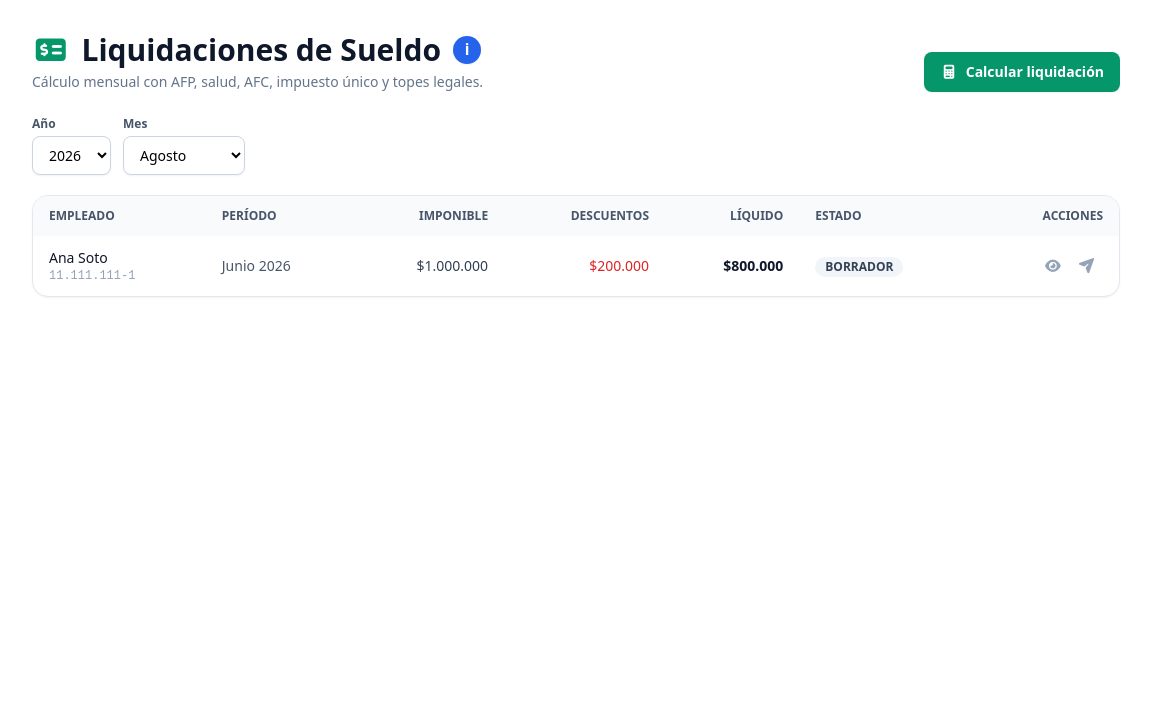
LiquidacionesRrhh › calcular liquidacion envia el payload sin campos vacios y cierra el modal
expect the text "Ana Soto 11.111.111-1" is shown: met, box [33,236,206,296]
Click the button "Calcular liquidación" at (1022, 72), box [924,52,1120,92]
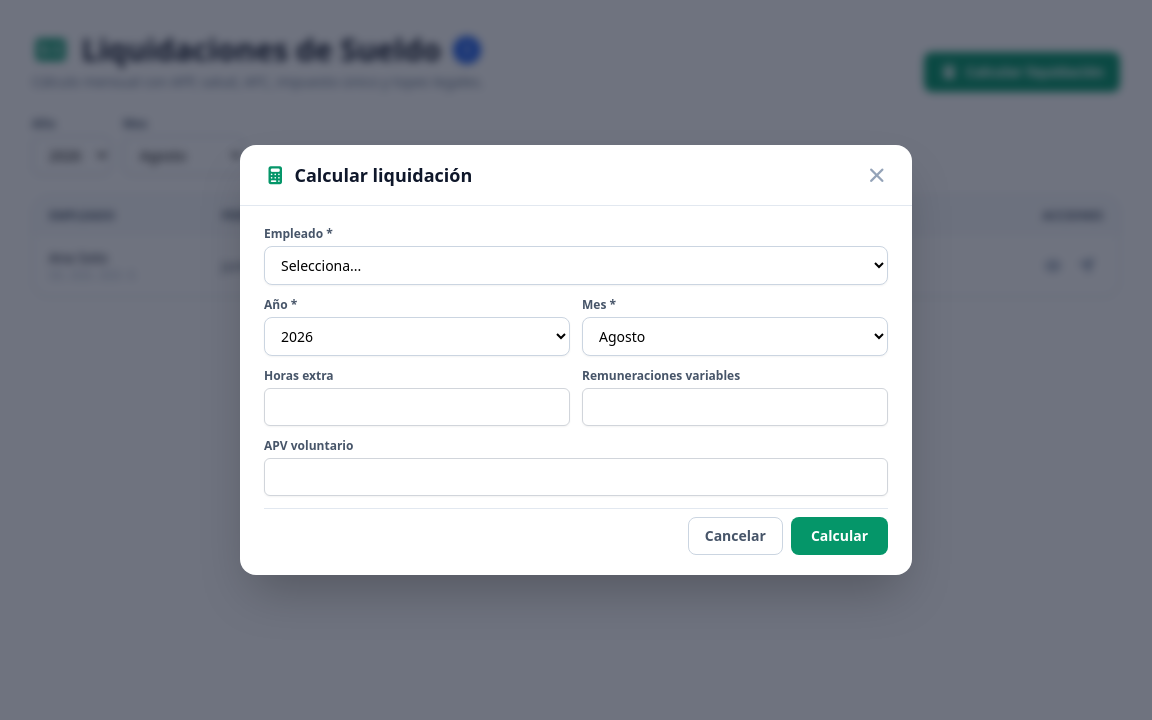
expect the text "Horas extra" is shown: met, box [264,367,334,384]
Select "11.111.111-1 — Ana Soto" in the dropdown labelled "Empleado *" at (576, 266), box [264,246,888,285]
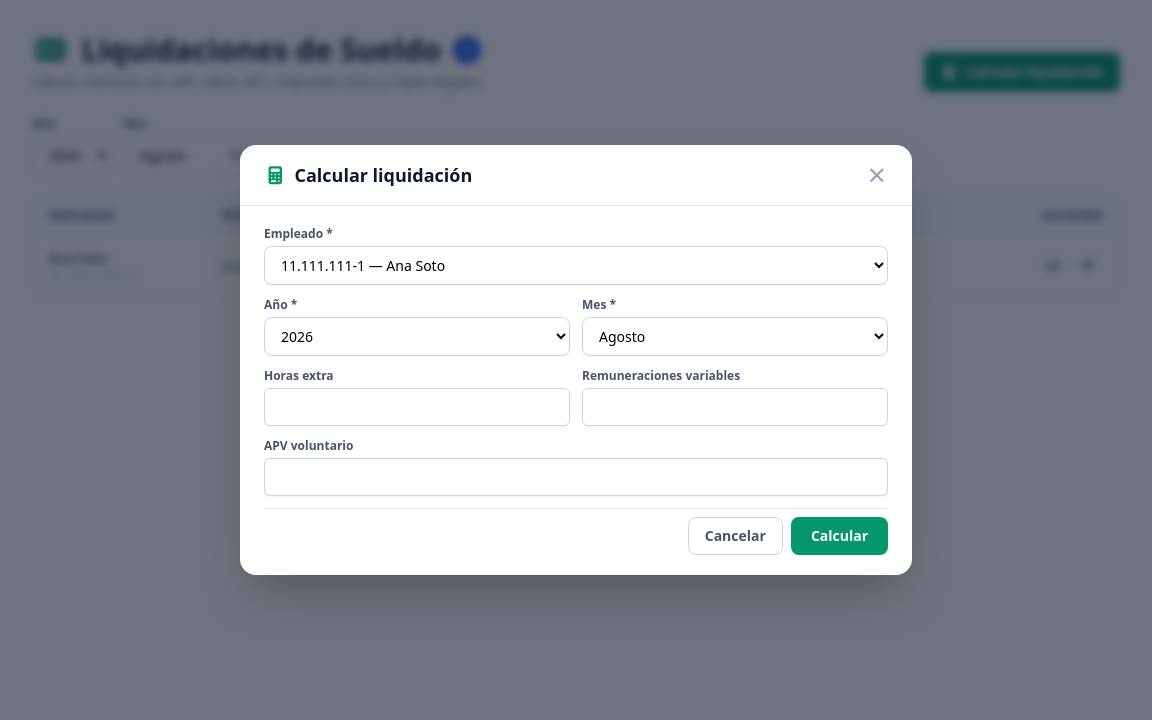
Type "5" into the number field labelled "Horas extra" at (417, 407), box [264,388,570,426]
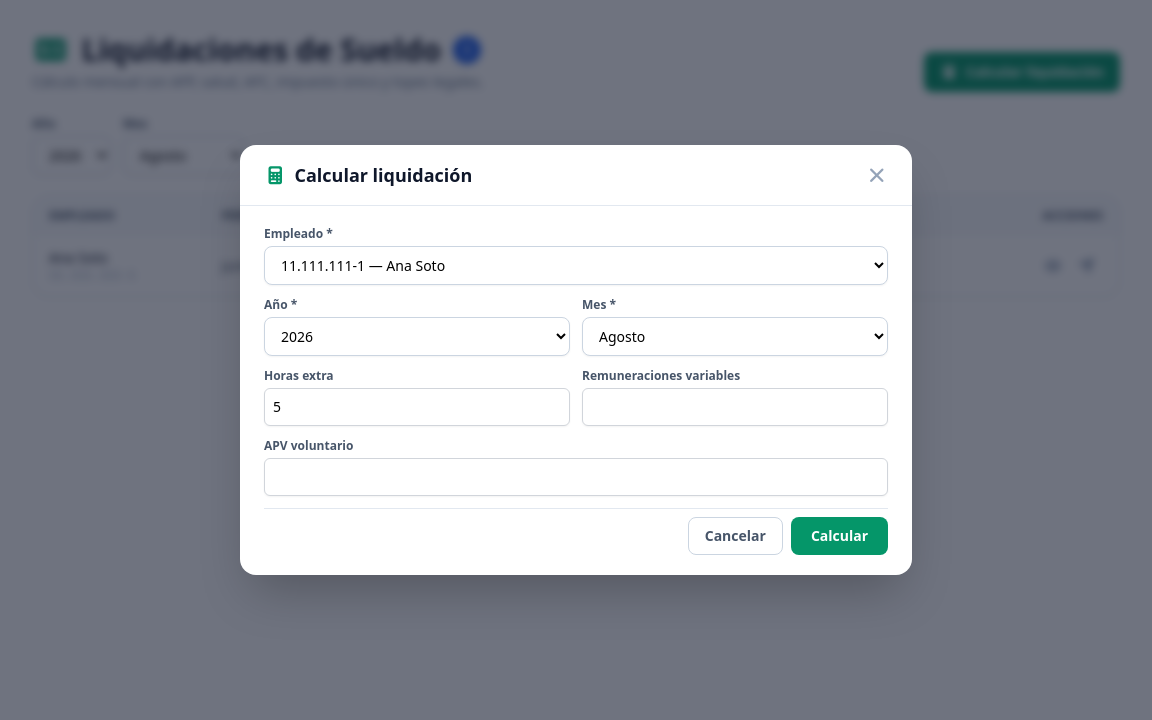
Click the button "Calcular" at (839, 536), box [791,517,888,555]
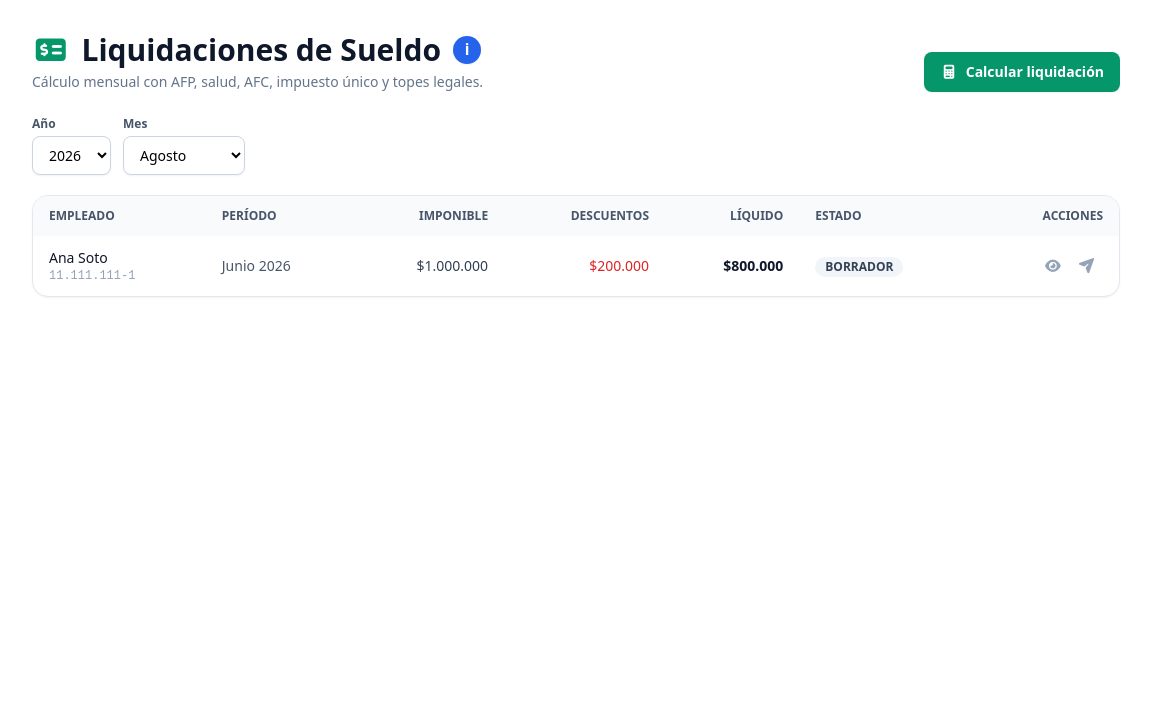
expect the text "Horas extra" is gone: met
